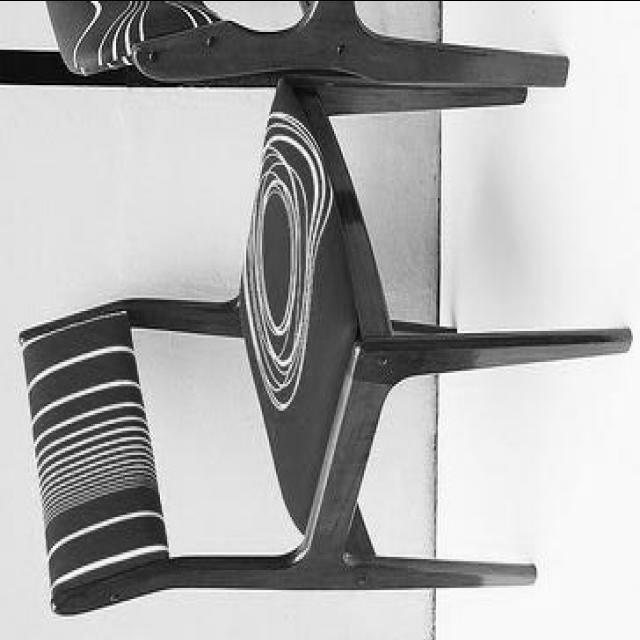chair: (17, 77, 630, 618)
